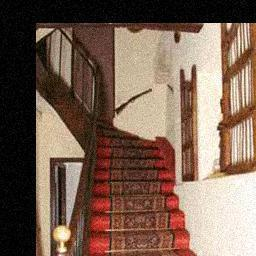Escaleras: (40, 48, 200, 256)
